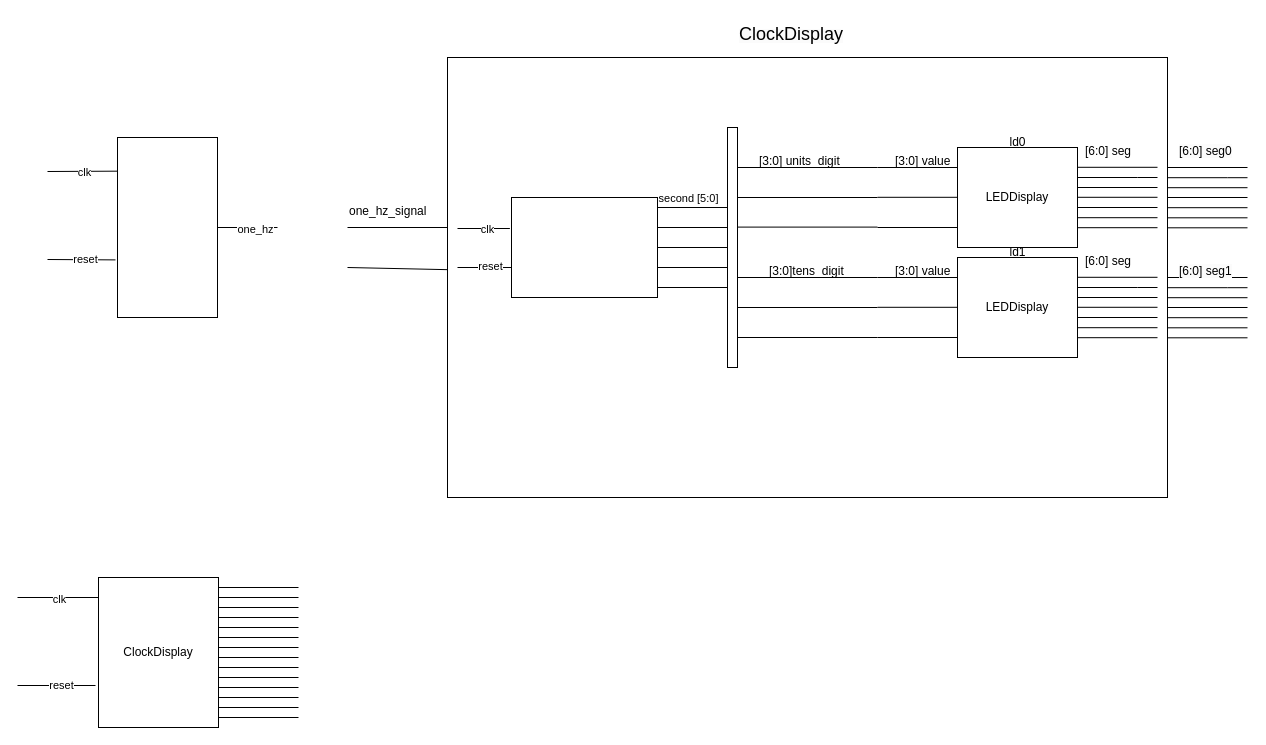
This 1266x745 diagram has some shape labels left out. The centre of each missing label's shape, as x and y in pixels:
"one_hz_clock" belongs at (167,227).
"SecondCounter" belongs at (584,247).
